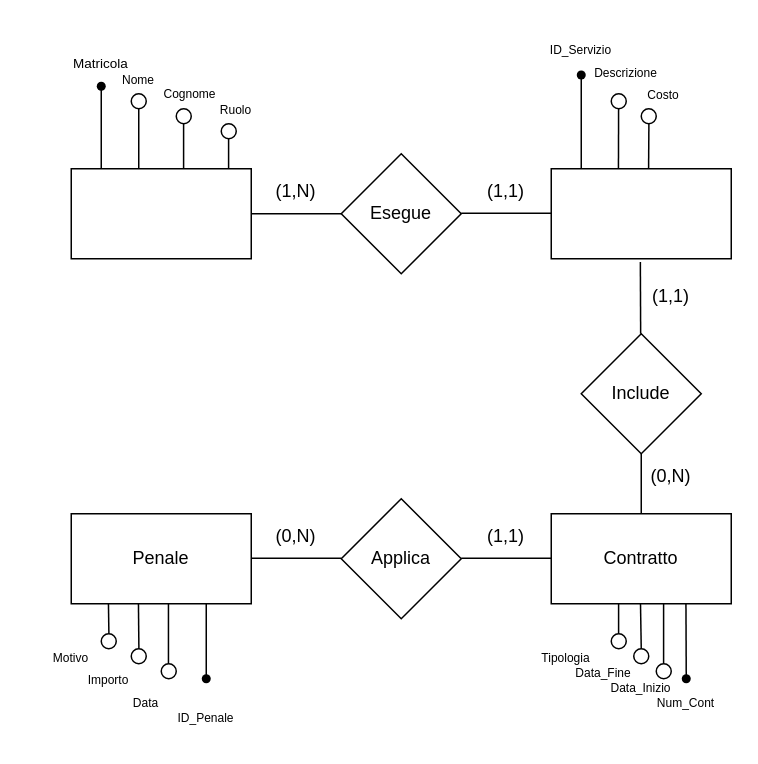
This 758x764 diagram has some shape labels left out. Here are the shapes that lost their labels. From the top down, the centre of each, then its label:
At (x=160, y=213): "Staff".
At (x=640, y=213): "Servizio_Extra".
